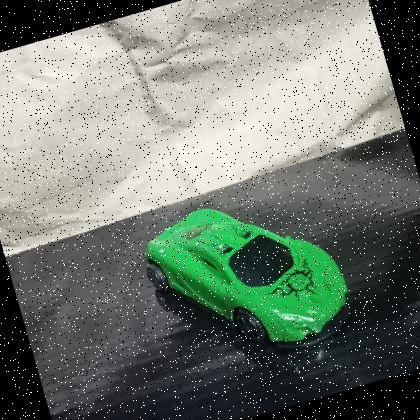Car: (128, 169, 366, 389)
